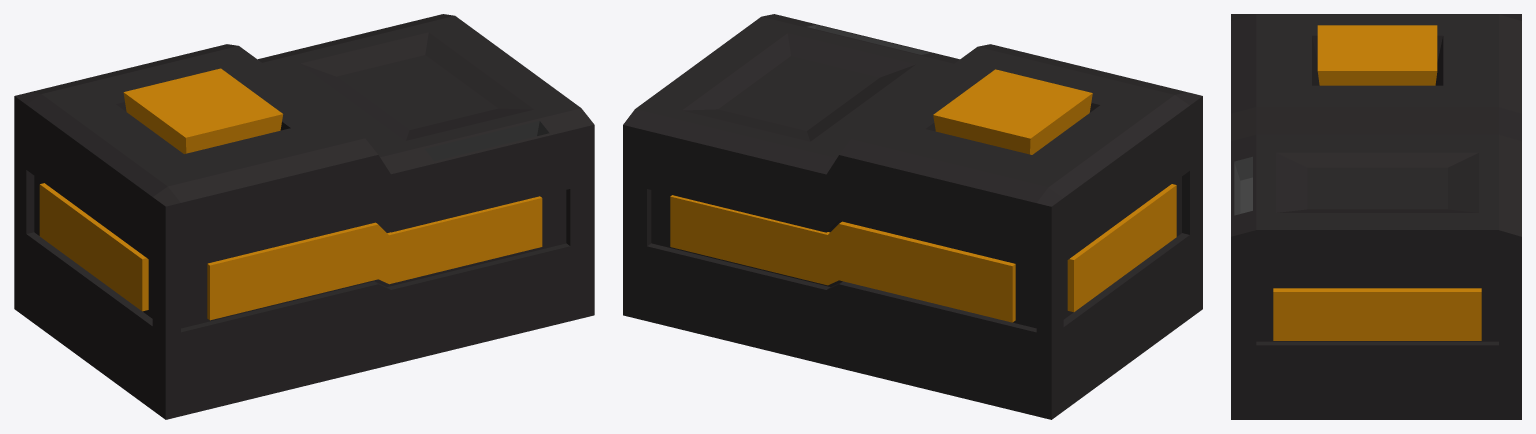
Rendered from CDReader.fbx.
3 views of the same model, side by side, from view 1: azimuth 30°, elevation 25°; view 2: azimuth 150°, elevation 25°; view 3: azimuth 270°, elevation 25° (orthographic). The views are drawn at different scales.
Visible parts, largest first — view 1: Cube; view 2: Cube; view 3: Cube.
Boxes of the visible parts, bbox=[...] form: Cube: bbox=[14, 14, 594, 419]; Cube: bbox=[623, 14, 1202, 419]; Cube: bbox=[1231, 14, 1521, 419].
Bounding box in the file's own units: 2150 × 1118 × 1315.
